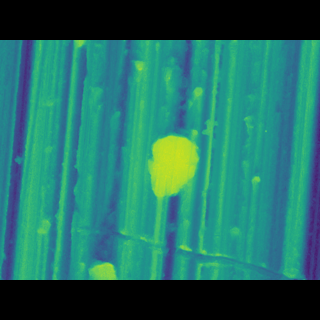Loch: (32, 205, 303, 251), (143, 135, 205, 193)
